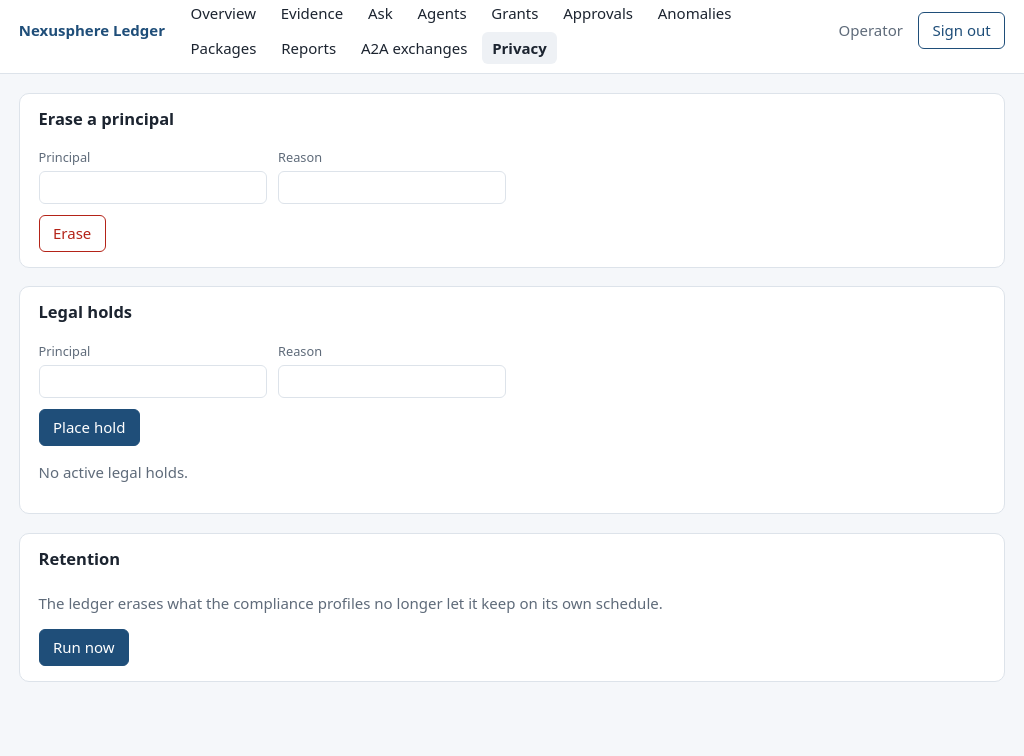
Scenario: PrivacyPage › erases a principal, places and releases a legal hold and runs retention
The image size is (1024, 756).
Expected: the text "No active legal holds." is shown, x1=38 y1=462 x2=188 y2=482
In the field labelled "Principal" below "Erase a principal": coordinates (153, 187) x1=38 y1=171 x2=267 y2=204, type "bob"
Click the button "Erase": coordinates (72, 233) x1=38 y1=215 x2=106 y2=252
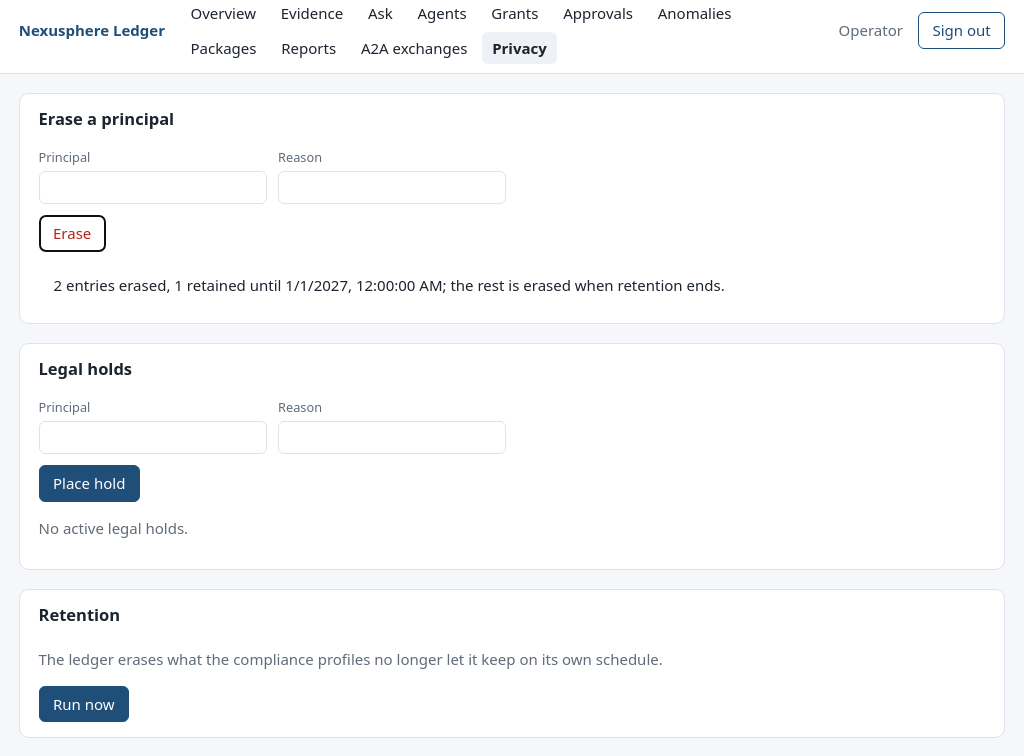
Result: the text "2 entries erased, 1 retained" is shown at x1=54 y1=275 x2=725 y2=295
In the 2nd field labelled "Principal": coordinates (153, 437) x1=38 y1=421 x2=267 y2=454, type "alice"
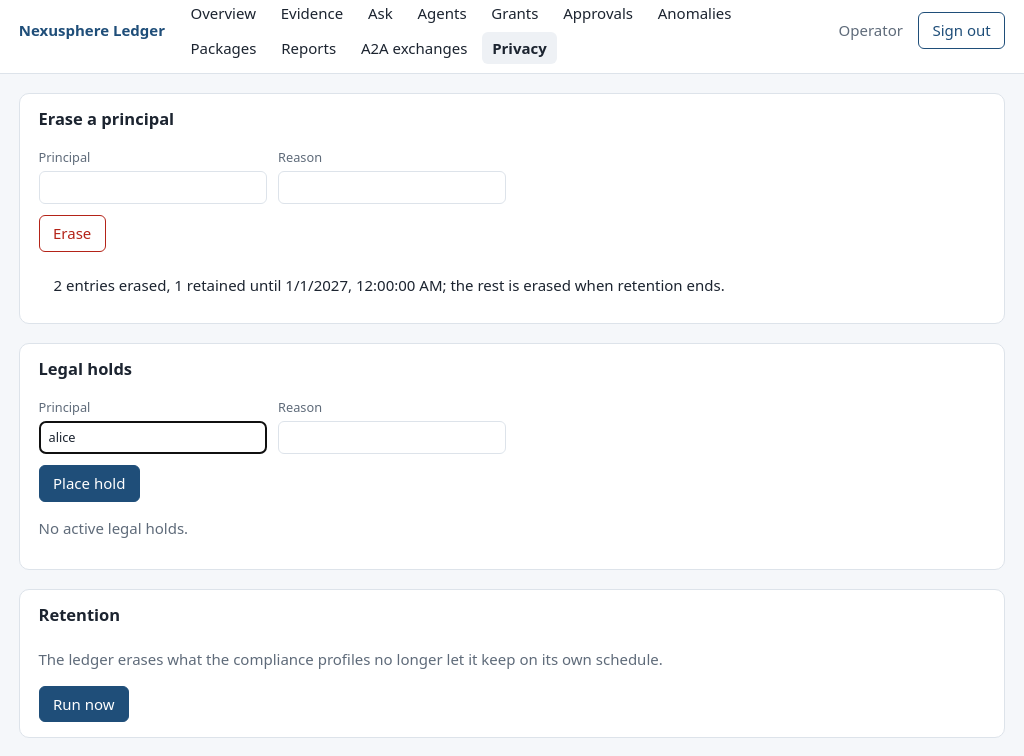
In the 2nd field labelled "Reason": coordinates (392, 437) x1=278 y1=421 x2=506 y2=454, type "dispute 42"
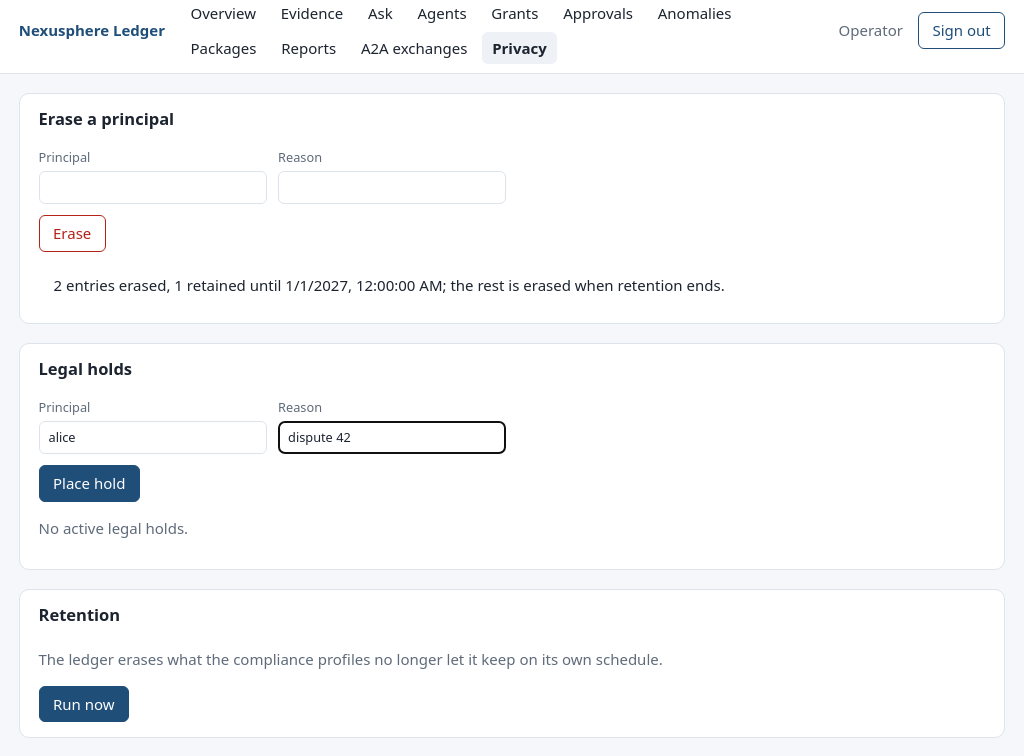
Click the button "Place hold": coordinates (89, 484) x1=38 y1=465 x2=140 y2=502
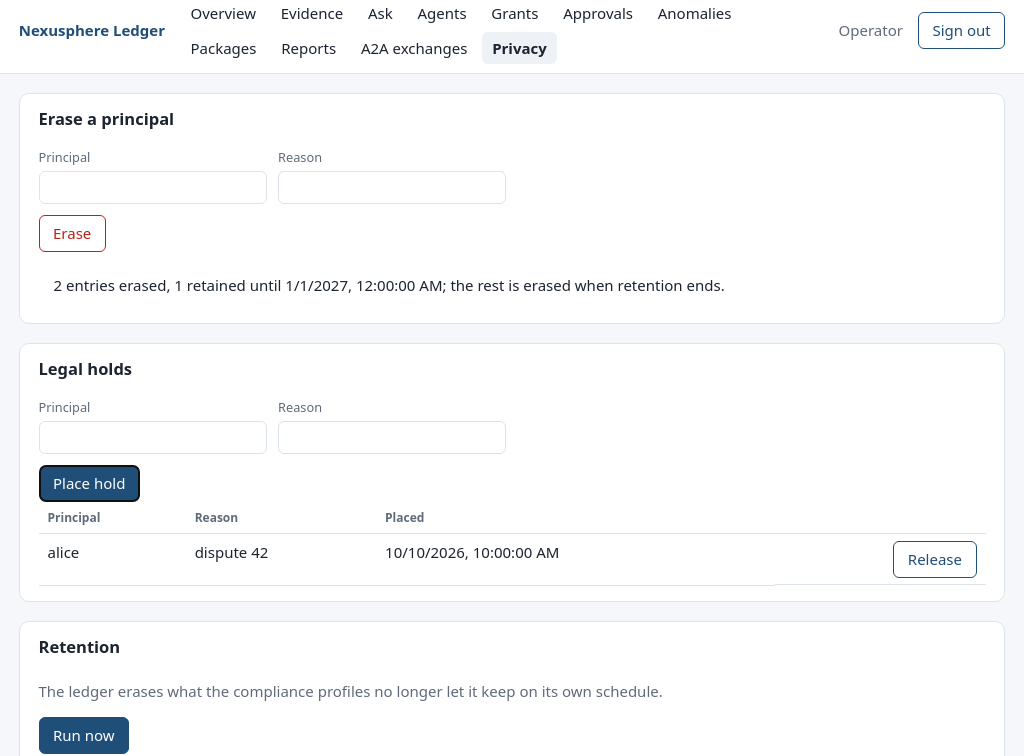
Result: the text "dispute 42" is shown at x1=186 y1=534 x2=376 y2=585
Click the button "Release": coordinates (935, 559) x1=893 y1=541 x2=976 y2=578
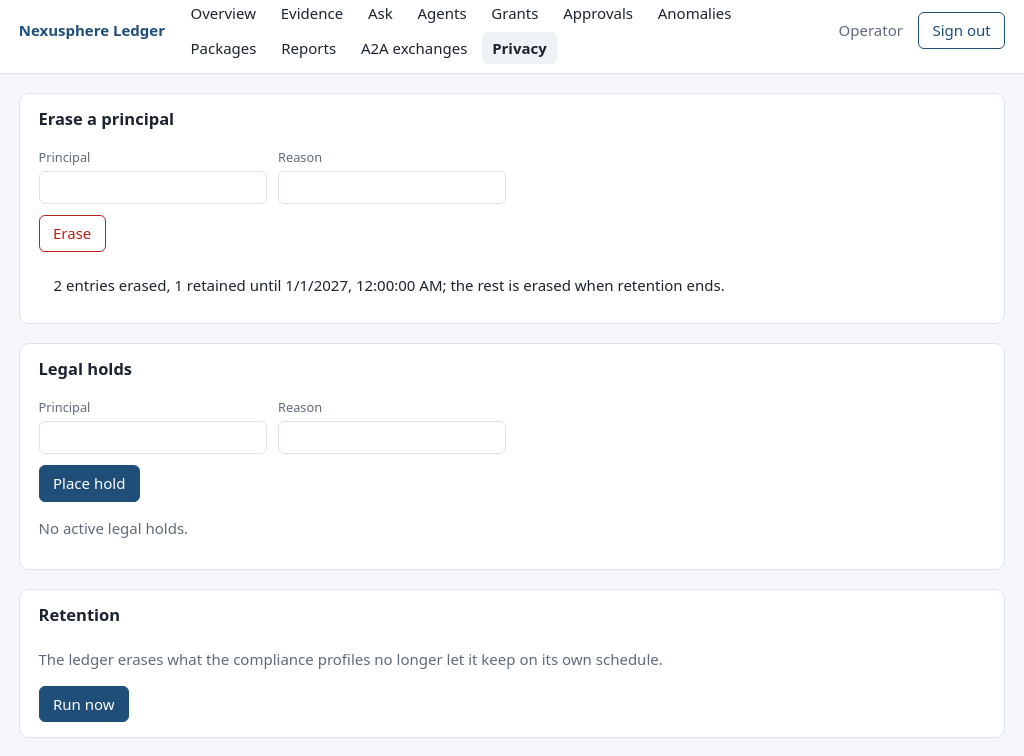
Result: the text "No active legal holds." is shown at x1=38 y1=518 x2=188 y2=538
Click the button "Run now": coordinates (84, 704) x1=38 y1=686 x2=129 y2=722
(page scrolled)
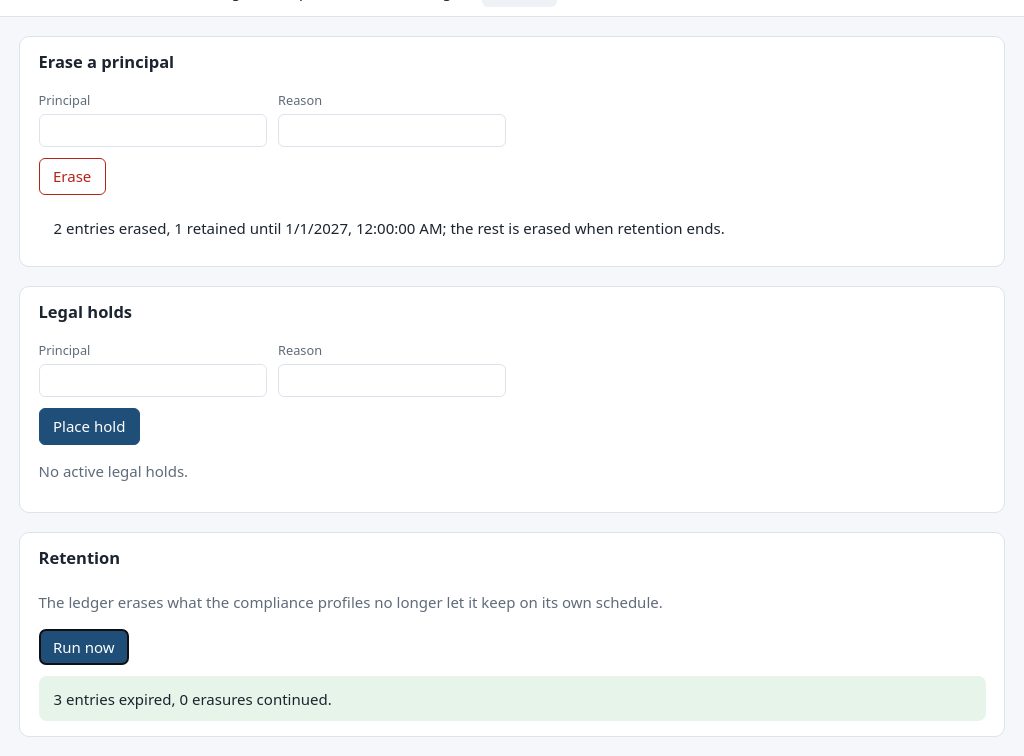
Result: the text "3 entries expired, 0 erasures continued." is shown at x1=38 y1=676 x2=986 y2=721
